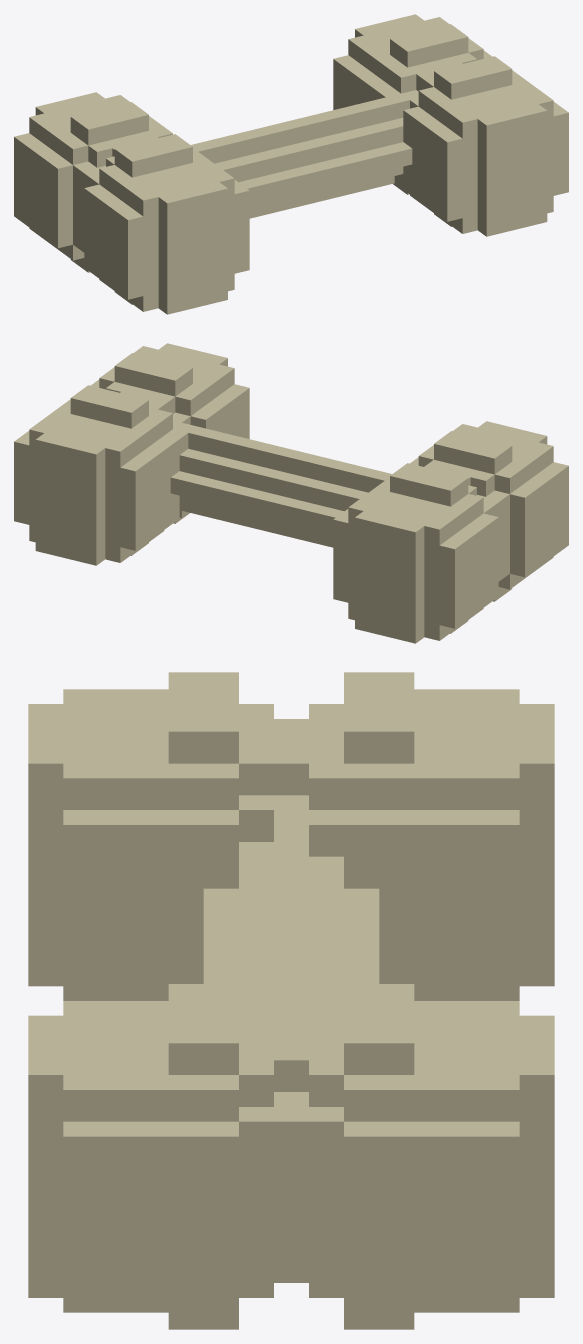
File: Bone.fbx
The picture shows the model from 3 angles, top to bottom: view 1: azimuth 30°, elevation 25°; view 2: azimuth 150°, elevation 25°; view 3: azimuth 270°, elevation 25°; orthographic projection. The views are drawn at different scales.
Parts seen in each view (by area): view 1: Bone; view 2: Bone; view 3: Bone.
Part boxes in pixels (x1,y1,x2,y2): Bone: (14, 14, 568, 314); Bone: (14, 343, 568, 643); Bone: (28, 672, 554, 1329).
Bounding box in the file's own units: 0.141 × 0.0729 × 0.0438.
